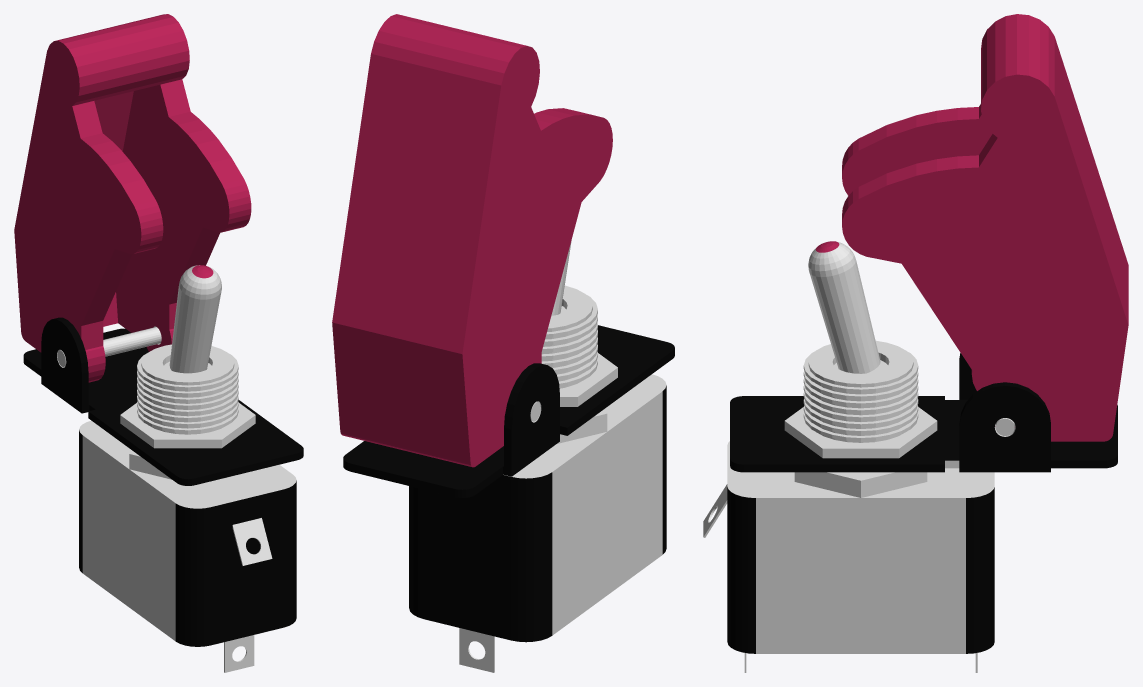
3 renders of one model, left to right at view 1: azimuth 30°, elevation 25°; view 2: azimuth 150°, elevation 25°; view 3: azimuth 270°, elevation 25°, orthographic. The views are drawn at different scales.
Visible parts, largest first — view 1: _1310; view 2: _1310; view 3: _1310.
Boxes of the visible parts, <box> form: _1310: <box>14,14,303,672</box>; _1310: <box>332,14,674,672</box>; _1310: <box>703,14,1128,672</box>.
Size of the model in its own units: 17 by 44.5 by 71.69.
